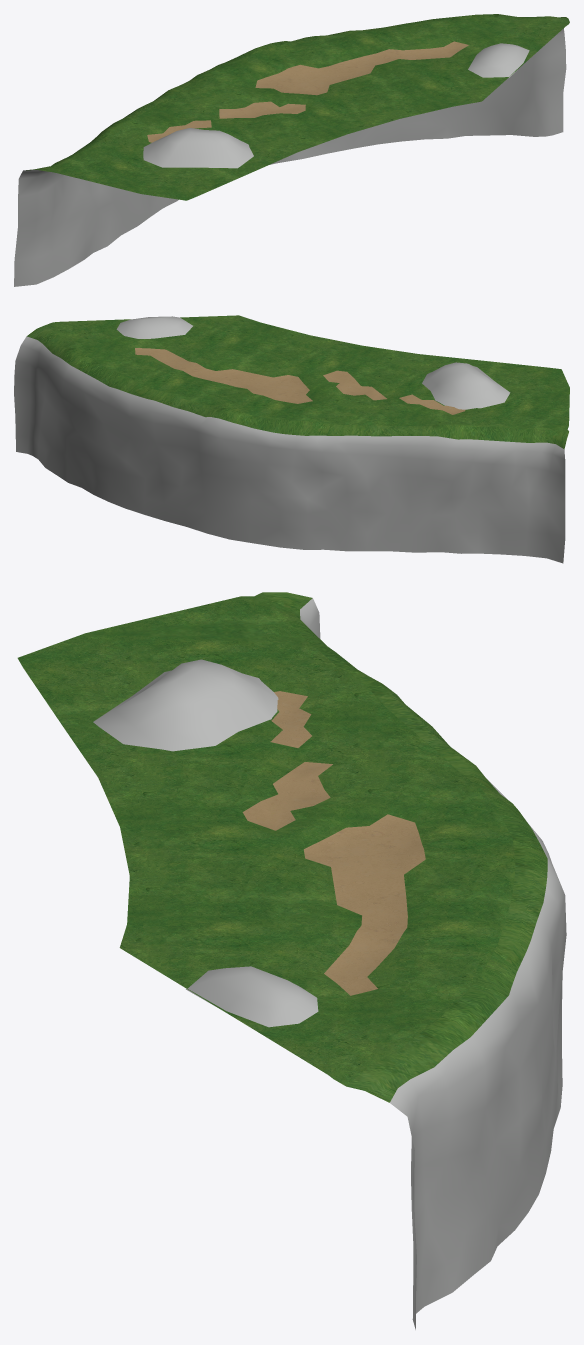
File: SM_ENV_KNFRST_Cliff_D_COL.FBX
3 views of the same model, one above another, from view 1: azimuth 30°, elevation 25°; view 2: azimuth 150°, elevation 25°; view 3: azimuth 270°, elevation 25° (orthographic). The views are drawn at different scales.
Visible parts, largest first — view 1: SM_ENV_KNFRST_Cliff_D_COL; view 2: SM_ENV_KNFRST_Cliff_D_COL; view 3: SM_ENV_KNFRST_Cliff_D_COL.
Part boxes in pixels (x1,y1,x2,y2): SM_ENV_KNFRST_Cliff_D_COL: (14,14,569,286); SM_ENV_KNFRST_Cliff_D_COL: (14,315,569,563); SM_ENV_KNFRST_Cliff_D_COL: (17,592,566,1329).
Bounding box in the file's own units: 4442 × 1098 × 1995.
